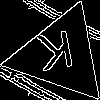K: (35, 30, 78, 81)
